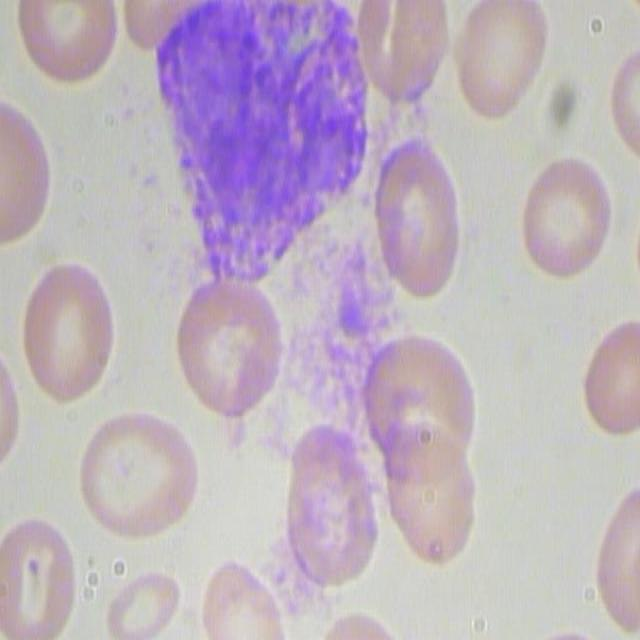RBC: (369, 100, 468, 308), (276, 411, 384, 601), (354, 328, 479, 473), (177, 270, 283, 423), (78, 410, 196, 544), (24, 258, 120, 408), (377, 434, 477, 567), (518, 157, 616, 280), (448, 0, 546, 118), (354, 2, 448, 112), (10, 0, 121, 82), (0, 516, 72, 639), (0, 92, 54, 249), (196, 559, 292, 640), (578, 319, 640, 432), (596, 477, 640, 630), (102, 560, 186, 638), (117, 0, 196, 47)
WBC: (158, 3, 376, 297)
